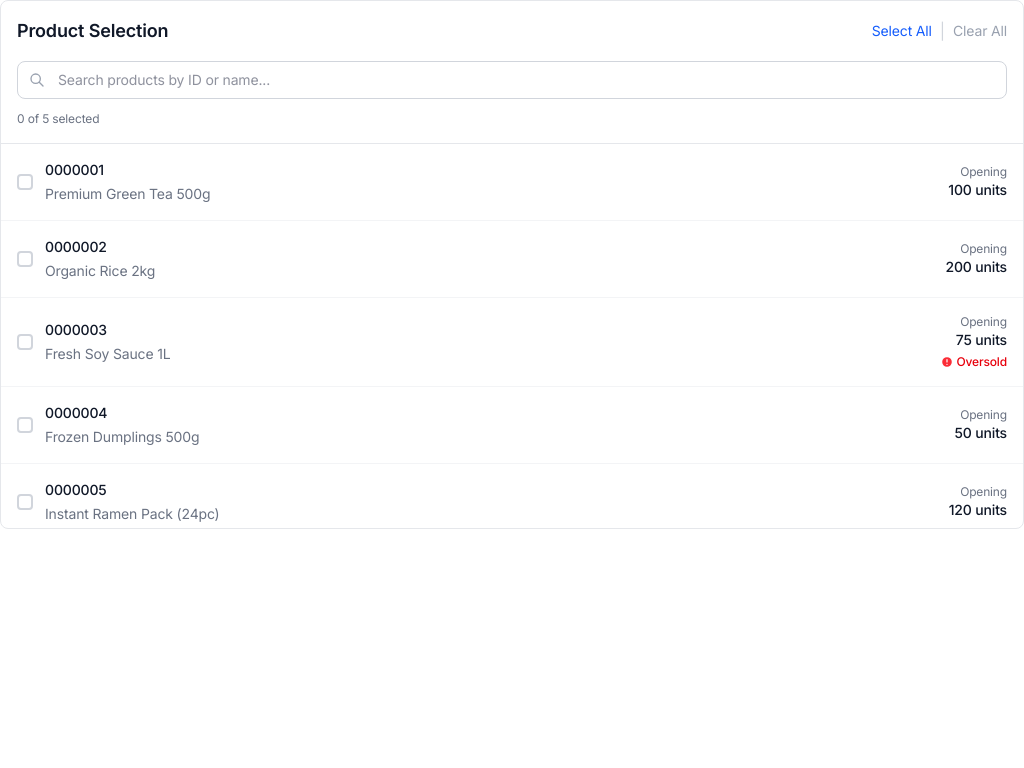
Test: ProductSelector › Search Functionality › should show no results message when search has no matches
The width and height of the screenshot is (1024, 768).
In the field with placeholder "Search products by ID or name...": (512, 80) [17,61,1007,99], type "nonexistent"
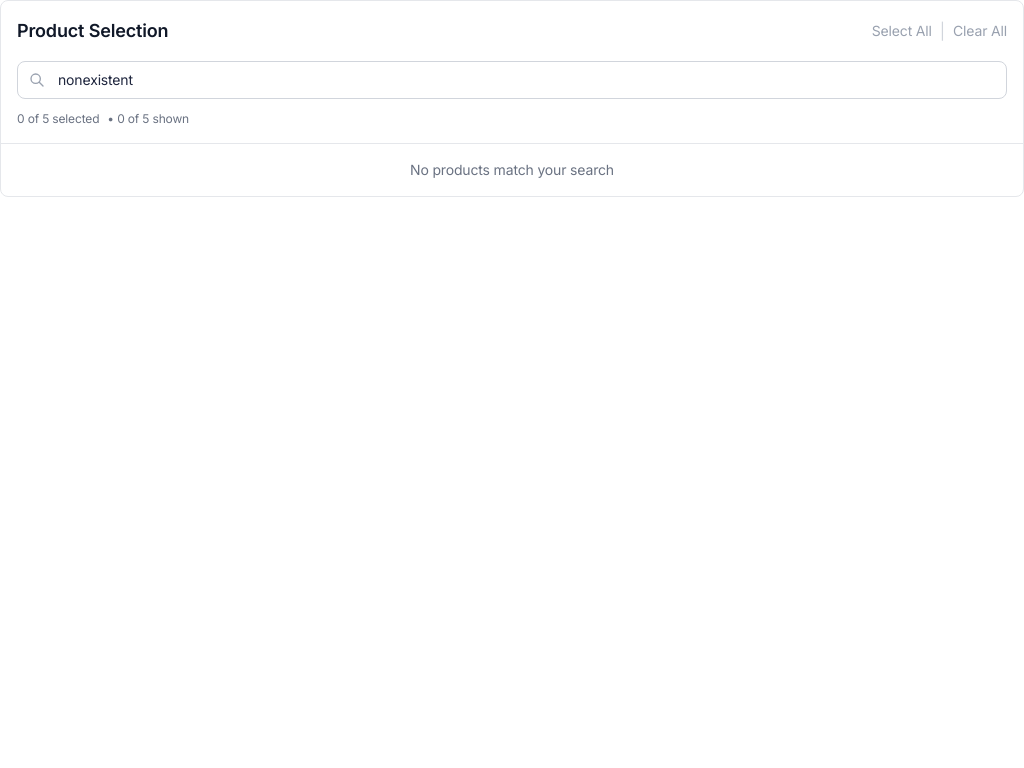
Result: the text "No products match your search" is shown at [410,161,614,178]
